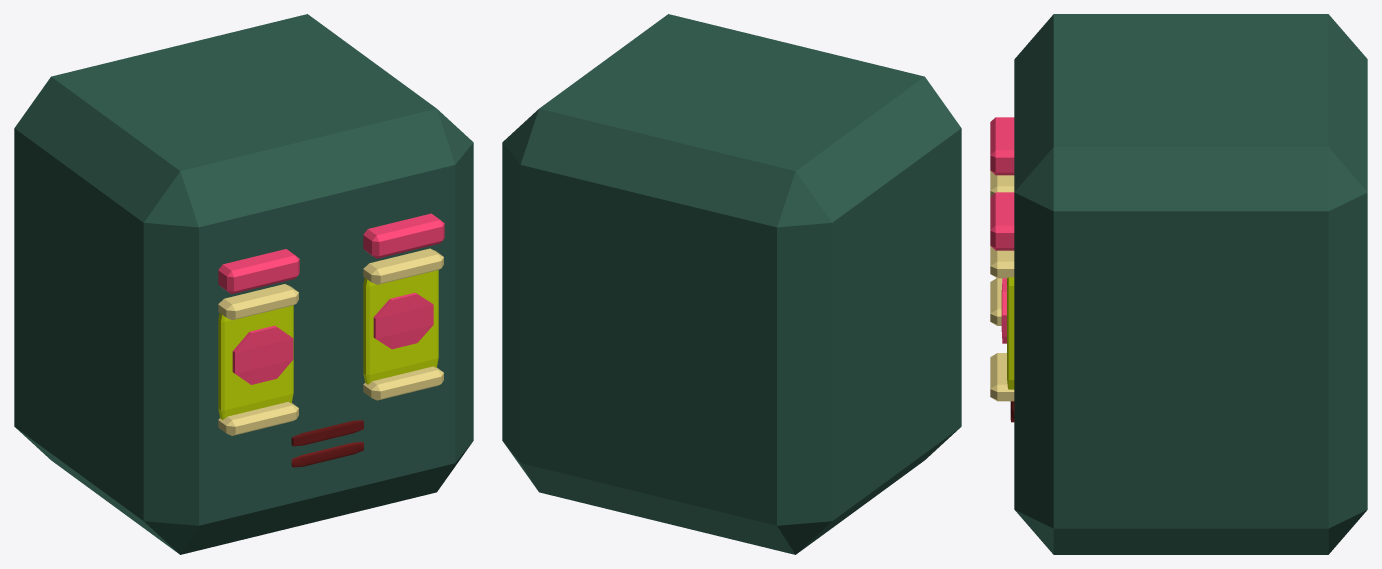
The model's file is faceAm.glb.
3 views of the same model, side by side, from view 1: azimuth 30°, elevation 25°; view 2: azimuth 150°, elevation 25°; view 3: azimuth 270°, elevation 25° (orthographic). The views are drawn at different scales.
Parts seen in each view (by area): view 1: head, Cube.002, EyeBrown, lip_up, lip_up.001, eyes, eye, mouth, mouth'; view 2: head; view 3: head, EyeBrown, lip_up.001, lip_up, Cube.002.
Boxes of the visible parts, <box> form: head: <box>14,14,473,554</box>; Cube.002: <box>218,270,438,419</box>; EyeBrown: <box>218,213,444,294</box>; lip_up: <box>218,248,443,320</box>; lip_up.001: <box>218,366,443,435</box>; eyes: <box>232,325,293,384</box>; eye: <box>373,292,433,349</box>; mouth: <box>291,420,363,446</box>; mouth': <box>291,442,363,467</box>; head: <box>502,14,961,554</box>; head: <box>1014,14,1367,554</box>; EyeBrown: <box>990,117,1014,250</box>; lip_up.001: <box>990,278,1014,401</box>; lip_up: <box>990,171,1014,278</box>; Cube.002: <box>1007,277,1014,389</box>.
Size of the model in its own units: 0.7804 by 0.8675 by 0.7278.
